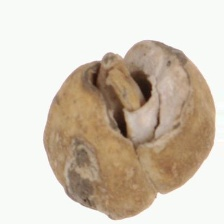L1: (78, 39, 184, 143)
L2: (42, 41, 216, 220)
